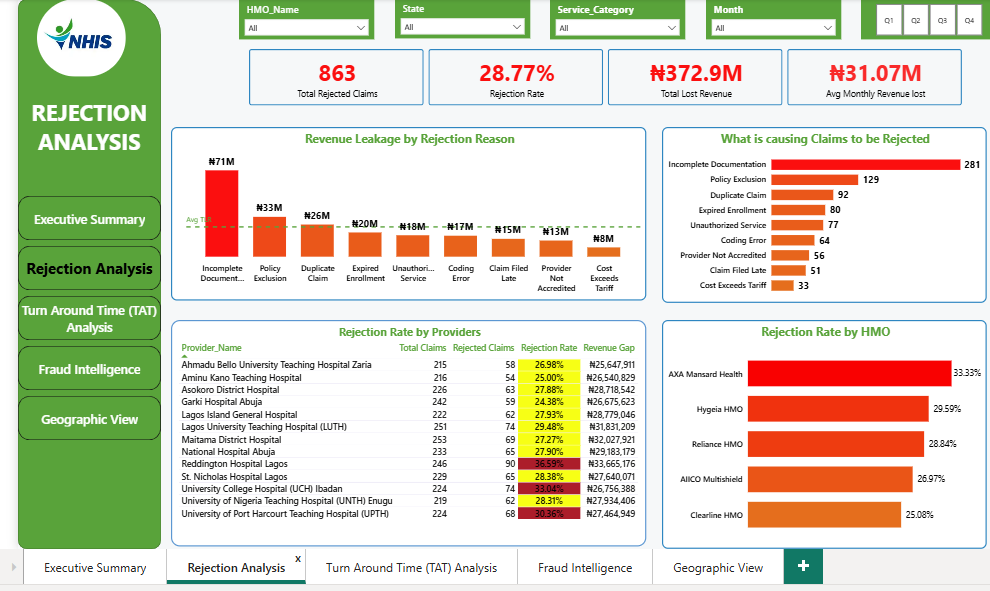

Layout of this report page (visuals, bound fields, positions):
{"tool":"powerbi","page":{"name":" Rejection Analysis","canvas":[1664,935],"ordinal":2},"visuals":[{"type":"shape","box":[0,0,243.1,935],"z":0},{"type":"slicer","fields":{"Values":["Claims.State"]},"box":[640.5,0,230,67.3],"z":0,"group":"g1"},{"type":"slicer","fields":{"Values":["Claims.HMO_Name"]},"box":[375.9,1.9,230,67.3],"z":1000,"group":"g1"},{"type":"cardVisual","fields":{"Data":["Table of measure.Rejected Claims","Table of measure.Rejection Rate","Table of measure.Revenue Gap","Table of measure.avg revenue lost"]},"box":[375.9,67.3,1249.2,130.9],"z":1000},{"type":"slicer","fields":{"Values":["Claims.Service_Category"]},"box":[905.1,1.9,230,67.3],"z":2000,"group":"g1"},{"type":"clusteredBarChart","title":"Rejection Rate by HMO","fields":{"Category":["Claims.HMO_Name"],"Y":["Table of measure.Rejection Rate"]},"box":[1094,545.9,552.5,388.7],"z":2000},{"type":"slicer","fields":{"Values":["datetable.Date.Variation.Date Hierarchy.Month"]},"box":[1169.7,1.9,230,67],"z":3000,"group":"g1"},{"type":"clusteredBarChart","title":"What is causing Claims to be Rejected","fields":{"Y":["Table of measure.Total Claims"],"Category":["Claims.Rejection_Reason"]},"box":[1094,216.9,551.6,299.2],"z":3000},{"type":"image","box":[31.7,0,151.2,132.5],"z":4000},{"type":"slicer","fields":{"Values":["datetable.Quarter"]},"box":[1434,1.9,230,67.3],"z":4000,"group":"g1"},{"type":"clusteredColumnChart","title":"Revenue Leakage by Rejection Reason","fields":{"Category":["Claims.Rejection_Reason"],"Y":["Table of measure.Revenue Gap"]},"box":[259.9,216.9,807.8,295.5],"z":5000},{"type":"tableEx","title":"Rejection Rate by Providers","fields":{"Values":["Claims.Provider_Name","Table of measure.Total Claims","Table of measure.Rejected Claims","Table of measure.Rejection Rate","Table of measure.Revenue Gap"]},"box":[259.9,546,807.8,385.2],"z":6000},{"type":"group","id":"g1","title":"Group 1","box":[375.9,0,1288.1,69.2],"z":7000},{"type":"textbox","box":[11.2,162.7,218.8,115.9],"z":8000},{"type":"pageNavigator","box":[0,334.7,243.1,415.1],"z":9000}]}

Visuals, with their boxes on the page's 1664x935 design canvas (x1, y1, x2, y2). These are canvas units, not pixel positions in the 990x591 screenshot, which may show the page scaled, cropped or inside an application window:
shape: <region>0, 0, 243, 935</region>
slicer - Claims.State: <region>640, 0, 870, 67</region>
slicer - Claims.HMO_Name: <region>376, 2, 606, 69</region>
cardVisual - Table of measure.Rejected Claims x Table of measure.Rejection Rate: <region>376, 67, 1625, 198</region>
slicer - Claims.Service_Category: <region>905, 2, 1135, 69</region>
"Rejection Rate by HMO" clusteredBarChart: <region>1094, 546, 1646, 935</region>
slicer - datetable.Date.Variation.Date Hierarchy.Month: <region>1170, 2, 1400, 69</region>
"What is causing Claims to be Rejected" clusteredBarChart: <region>1094, 217, 1646, 516</region>
image: <region>32, 0, 183, 132</region>
slicer - datetable.Quarter: <region>1434, 2, 1664, 69</region>
"Revenue Leakage by Rejection Reason" clusteredColumnChart: <region>260, 217, 1068, 512</region>
"Rejection Rate by Providers" tableEx: <region>260, 546, 1068, 931</region>
"Group 1" group: <region>376, 0, 1664, 69</region>
textbox: <region>11, 163, 230, 279</region>
pageNavigator: <region>0, 335, 243, 750</region>
